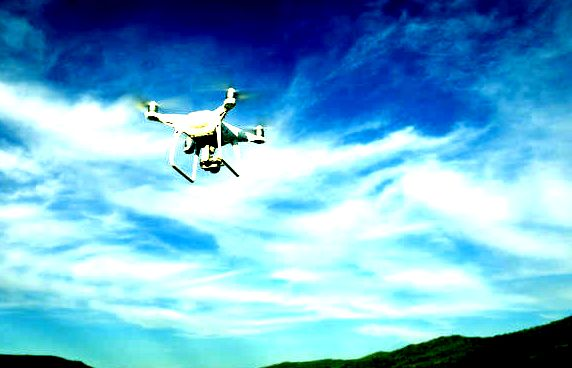Drone: (126, 84, 273, 190)
